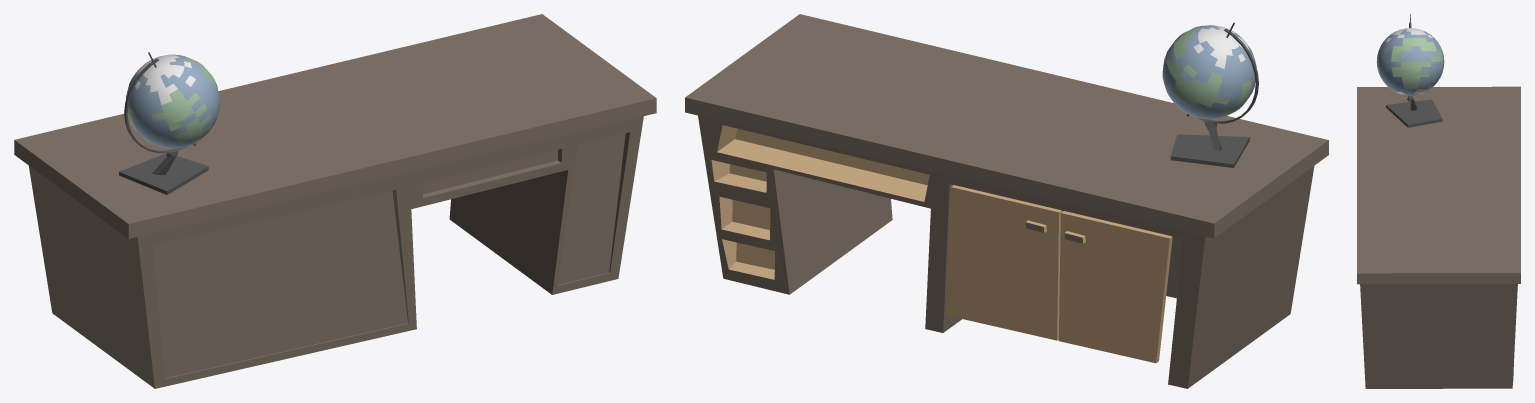
File: teahcerDesk_Planet.fbx
3 views of the same model, side by side, from view 1: azimuth 30°, elevation 25°; view 2: azimuth 150°, elevation 25°; view 3: azimuth 270°, elevation 25° (orthographic). The views are drawn at different scales.
Visible parts, largest first — view 1: bureauProf, planetTerre, supportPlanet; view 2: bureauProf, porte02, porte01, planetTerre, supportPlanet; view 3: bureauProf, planetTerre, supportPlanet.
Boxes of the visible parts, <box> form: bureauProf: <box>14,14,656,388</box>; planetTerre: <box>126,54,219,148</box>; supportPlanet: <box>119,52,208,194</box>; bureauProf: <box>685,14,1328,388</box>; porte02: <box>946,185,1061,340</box>; porte01: <box>1058,211,1172,363</box>; planetTerre: <box>1162,25,1256,119</box>; supportPlanet: <box>1170,22,1258,167</box>; bureauProf: <box>1357,86,1520,388</box>; planetTerre: <box>1376,28,1444,95</box>; supportPlanet: <box>1386,14,1442,127</box>.
Size of the model in its own units: 753 by 425 by 283.
